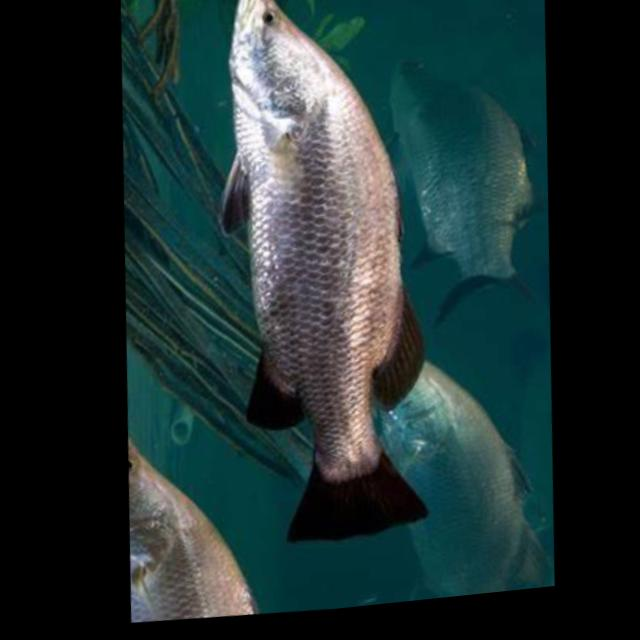Seabass: (196, 0, 450, 554)
